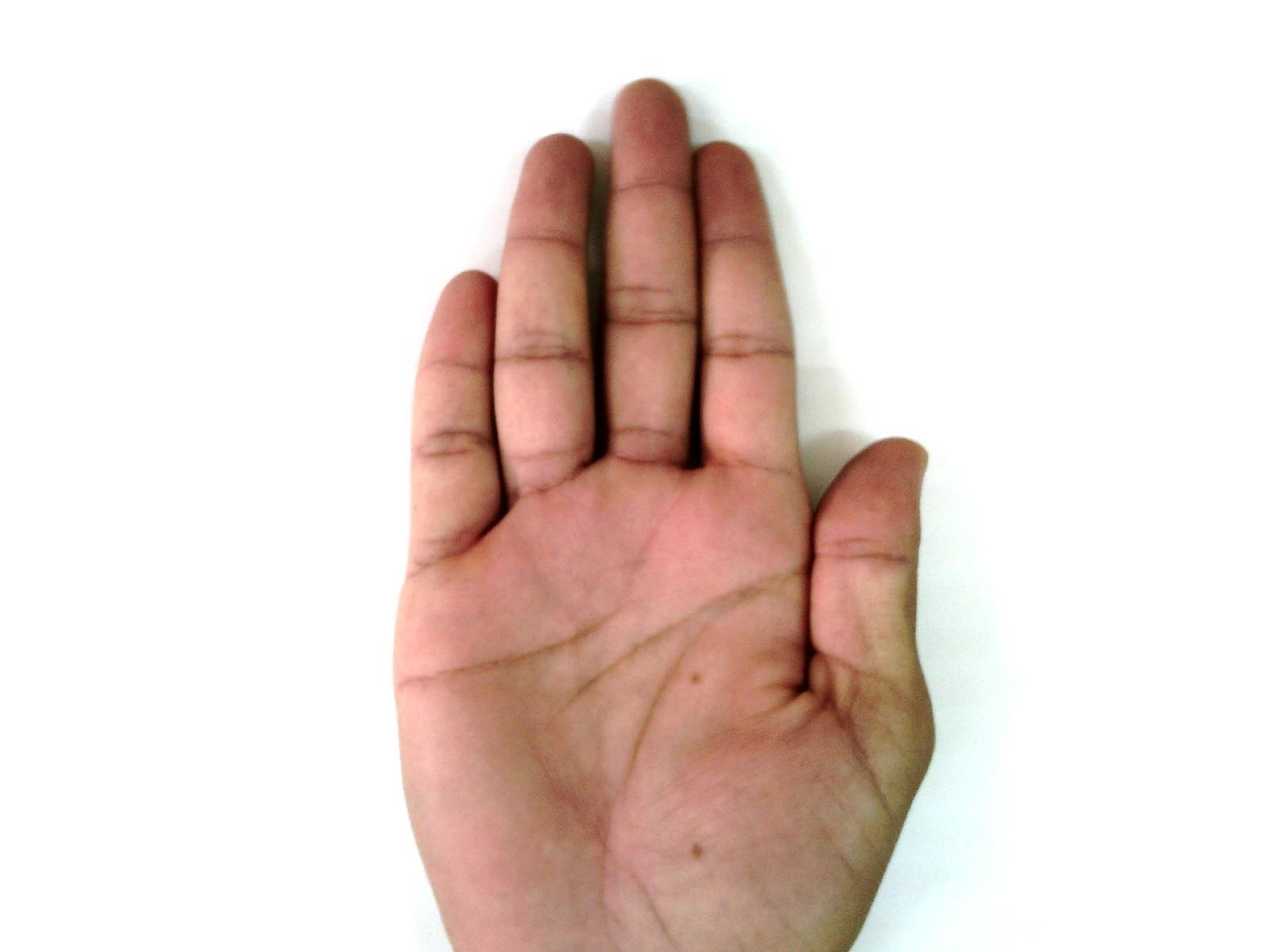open_palm: (389, 79, 941, 950)
